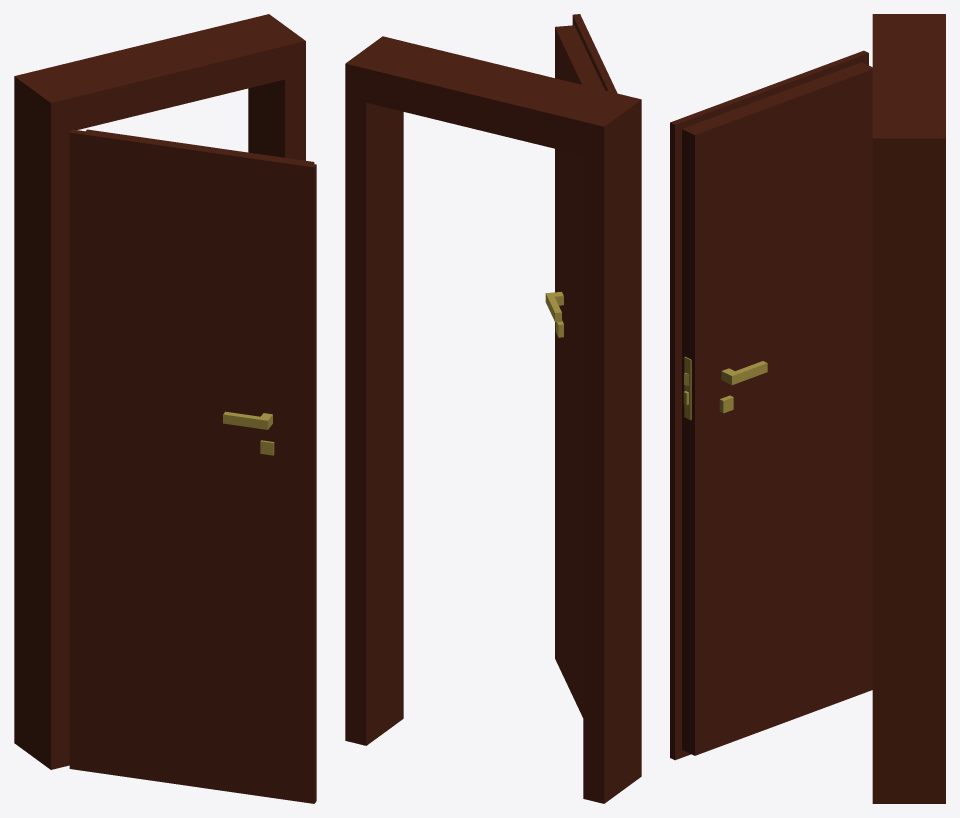
The model's file is doorinternal.fbx.
The picture shows the model from 3 angles, left to right: view 1: azimuth 30°, elevation 25°; view 2: azimuth 150°, elevation 25°; view 3: azimuth 270°, elevation 25°; orthographic projection.
Parts seen in each view (by area): view 1: Cube.003, Cube.001; view 2: Cube.001, Cube.003; view 3: Cube.003, Cube.001.
Part boxes in pixels (x1=…): Cube.003: x1=69, y1=129, x2=316, y2=803; Cube.001: x1=14, y1=14, x2=305, y2=769; Cube.001: x1=345, y1=36, x2=641, y2=803; Cube.003: x1=545, y1=14, x2=617, y2=717; Cube.003: x1=670, y1=50, x2=872, y2=760; Cube.001: x1=872, y1=14, x2=945, y2=803.
Size of the model in its own units: 160 by 400 by 150.
